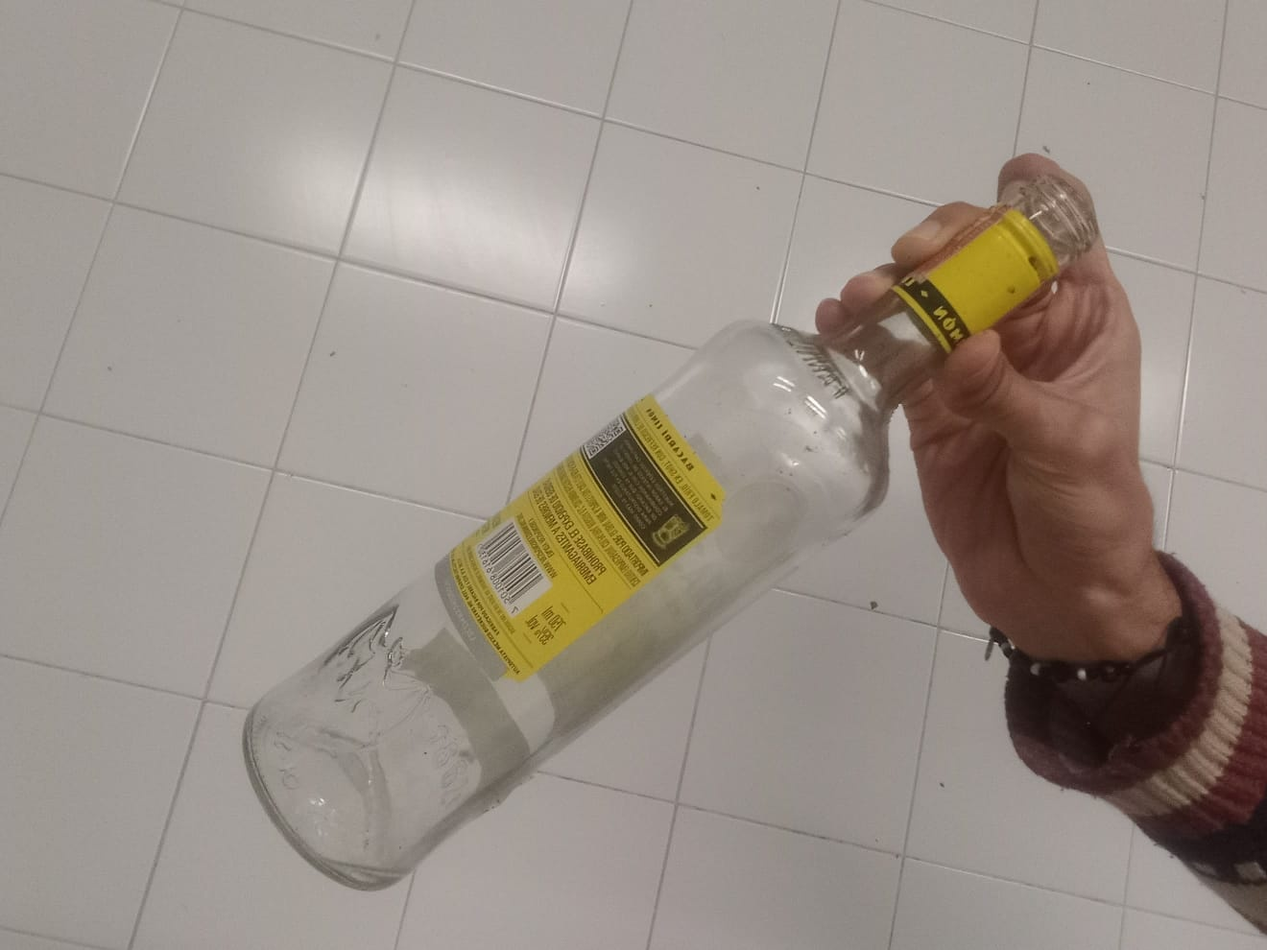Vidrio: (241, 178, 1100, 889)
